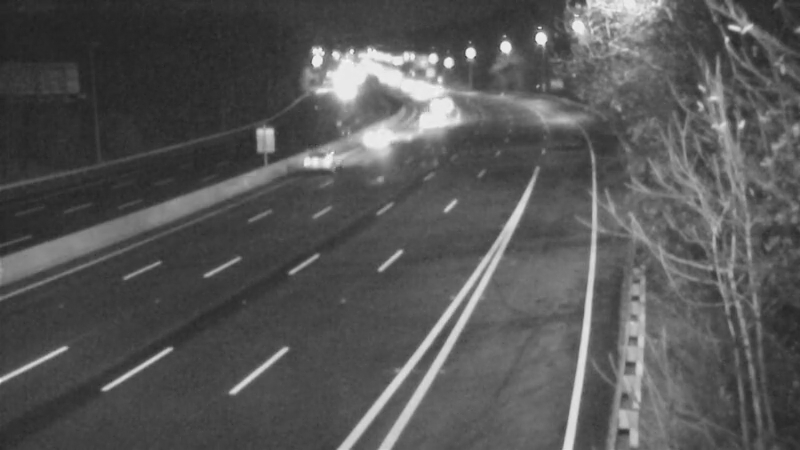vehicle: (283, 118, 363, 198), (413, 75, 463, 125), (405, 93, 455, 143), (350, 107, 400, 157)
